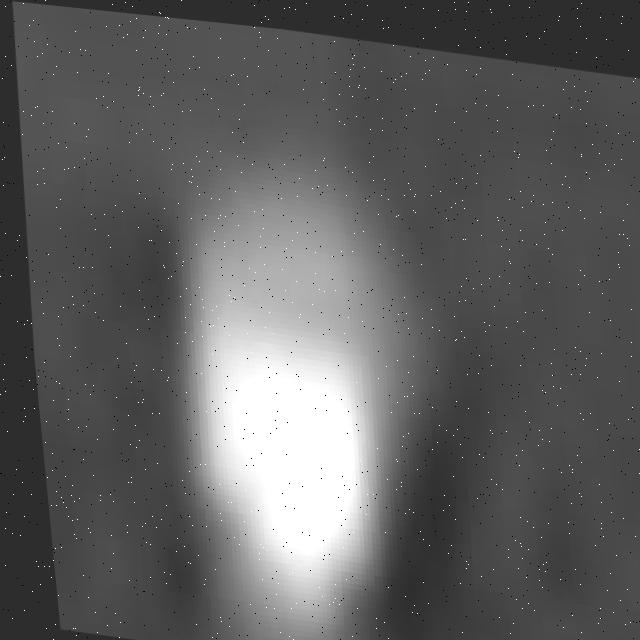person: (137, 122, 431, 640)
